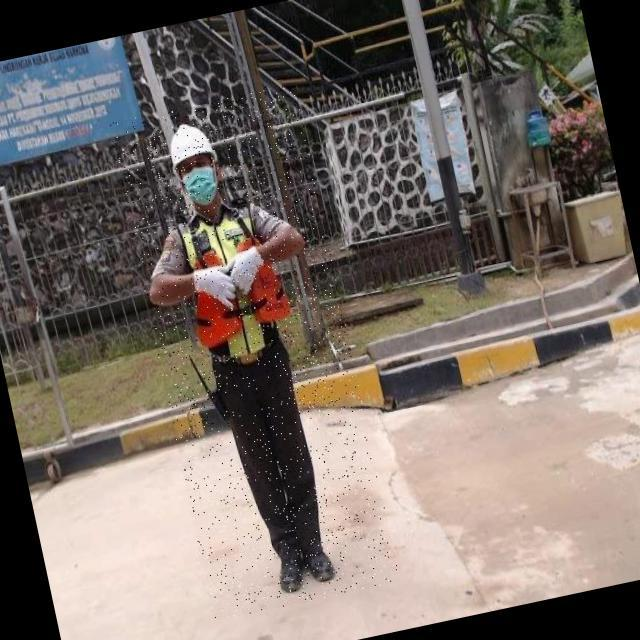Helmet: (162, 117, 221, 174)
Human: (108, 84, 400, 621)
Safety Boot: (272, 542, 309, 597), (302, 540, 340, 587)
Safety Vest: (175, 195, 301, 370)
